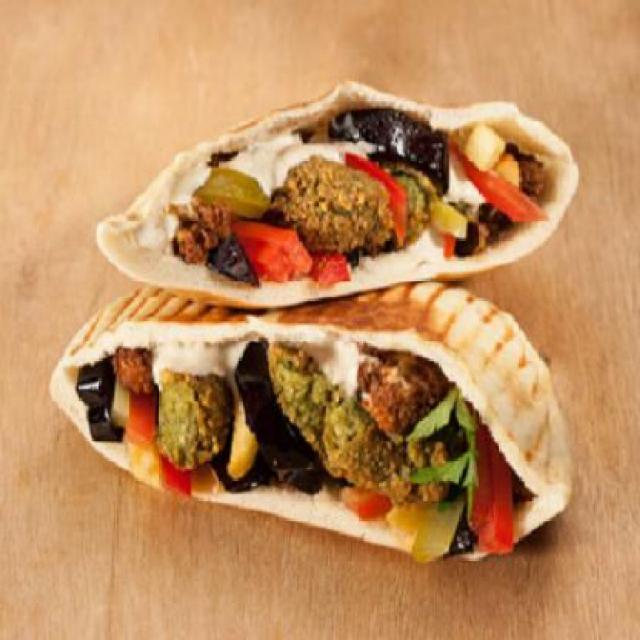eggplant: (216, 342, 290, 507), (332, 102, 453, 158), (206, 230, 262, 284), (81, 356, 112, 441)
falafel: (286, 358, 452, 480), (248, 176, 429, 224), (164, 372, 228, 462), (178, 201, 230, 253), (116, 348, 149, 387)
hummus: (362, 169, 486, 273), (153, 335, 362, 367), (222, 121, 327, 173)
